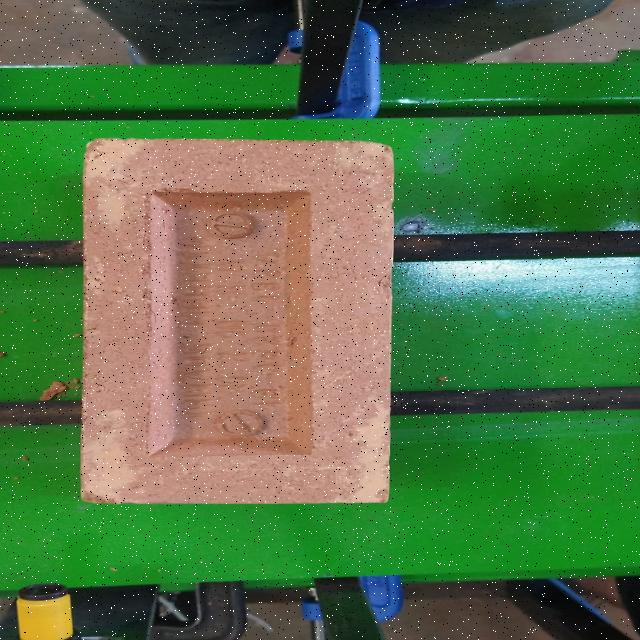bricks: (85, 138, 394, 502)
